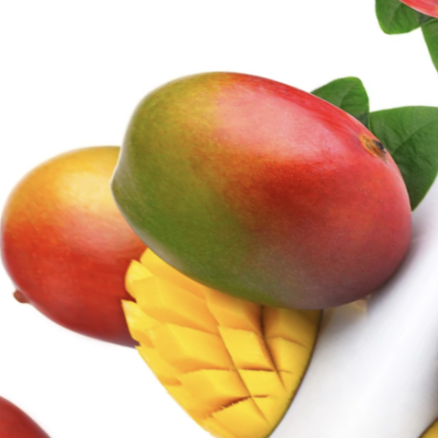mango: (63, 0, 438, 380), (0, 80, 284, 412)
